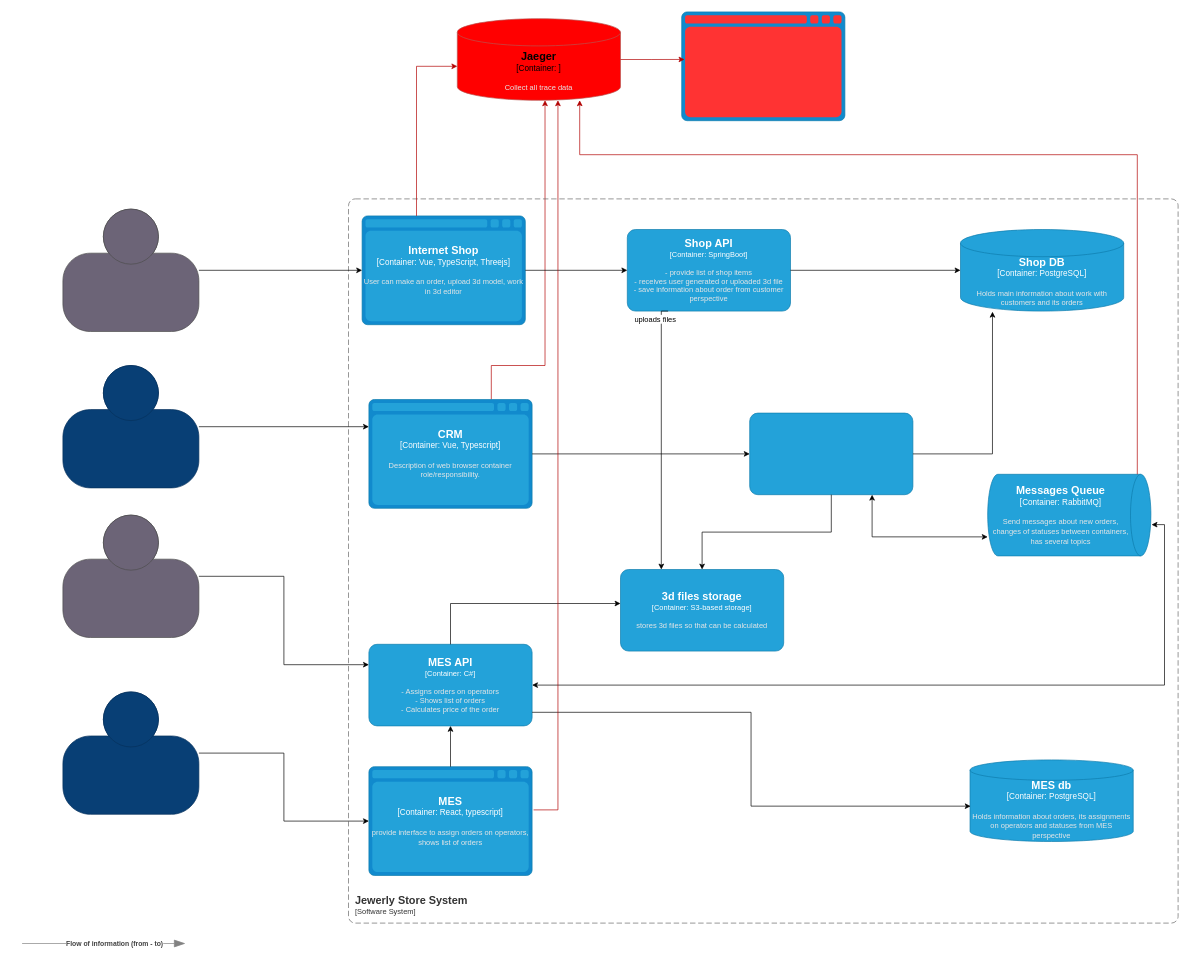
Some shapes in this 1190 by 966 pixel diagram are drawn without their labels. The centre of each missing label's shape, as x and y in pixels:
API user [Person] Description of external person.: the point at 130,576
CRM API [Container: SpringBoot] Description of container role/responsibility.: the point at 831,453
Customer [Person] Description of external person.: the point at 130,270
Jaeger UI [Container: ]: the point at 763,66
Operator [Person] Takes order in work, manufactures jewerly: the point at 130,752
Seller [Person] Operates with order, confirms manufacturing for the user: the point at 130,426
